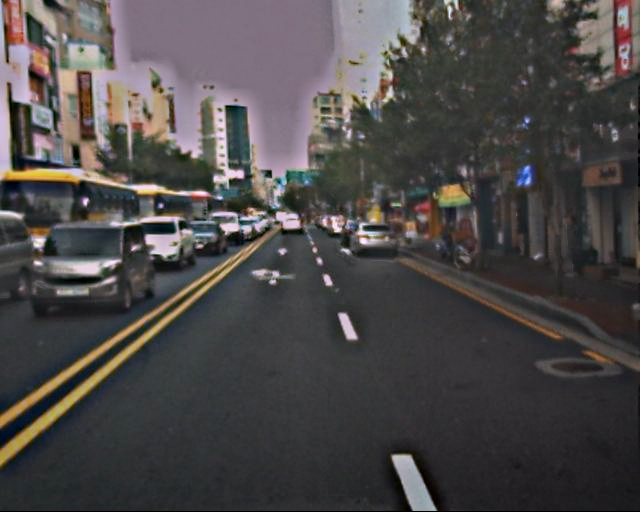person: (558, 212, 588, 280), (508, 208, 533, 260)
